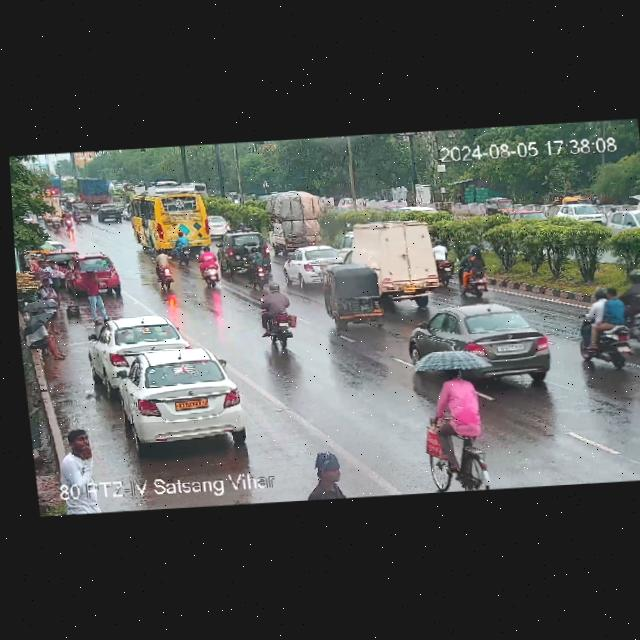bus: (125, 182, 222, 256)
car: (101, 347, 252, 450), (406, 306, 560, 385), (93, 315, 190, 374), (320, 262, 393, 327), (282, 244, 352, 284), (69, 254, 121, 292), (554, 202, 607, 234), (32, 194, 66, 228), (610, 208, 640, 240), (486, 198, 520, 219), (68, 199, 95, 224), (95, 203, 127, 223), (208, 213, 231, 236)
motorcycle: (576, 282, 640, 366), (437, 368, 487, 441), (255, 284, 303, 350), (218, 230, 276, 281), (451, 244, 501, 298), (169, 233, 205, 264), (200, 249, 226, 289)
person: (294, 449, 358, 502), (55, 429, 105, 488), (80, 263, 116, 323), (25, 319, 68, 359)
truck: (337, 216, 455, 306), (262, 186, 327, 248), (76, 174, 116, 209)
